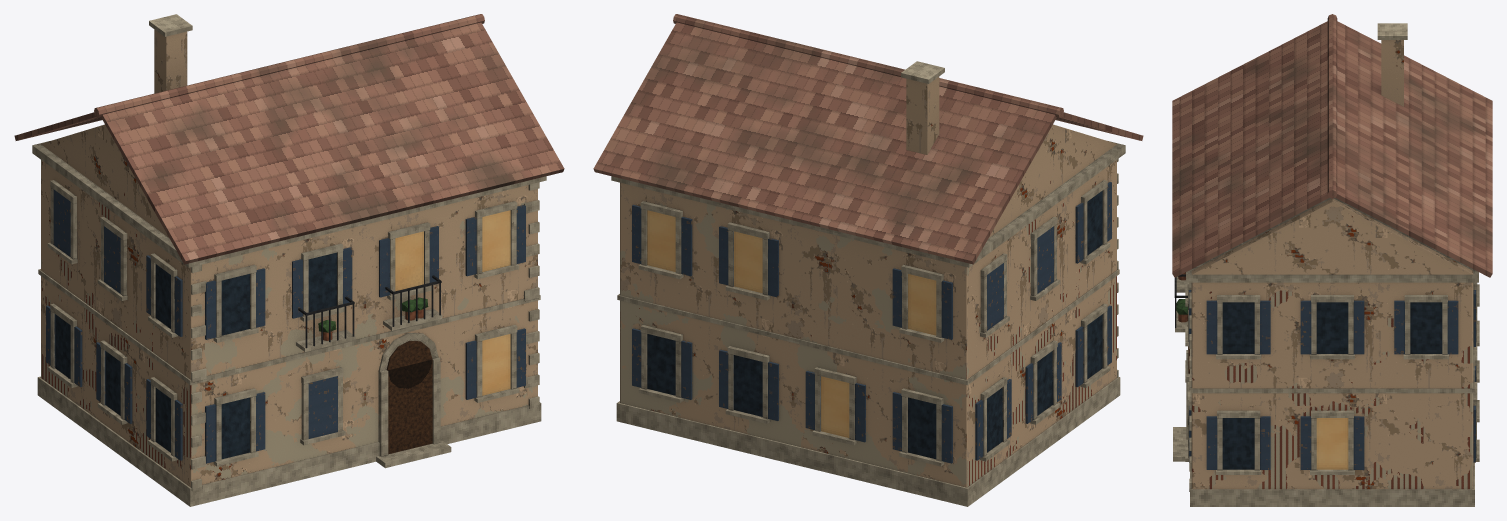
Rendered from siracusa_house_c.glb.
3 views of the same model, side by side, from view 1: azimuth 30°, elevation 25°; view 2: azimuth 150°, elevation 25°; view 3: azimuth 270°, elevation 25° (orthographic). The views are drawn at different scales.
Visible parts, largest first — view 1: siracusa_house_c; view 2: siracusa_house_c; view 3: siracusa_house_c.
Part boxes in pixels (x1,y1,x2,y2): siracusa_house_c: [14, 14, 564, 506]; siracusa_house_c: [593, 14, 1143, 506]; siracusa_house_c: [1172, 14, 1492, 506].
Size of the model in its own units: 11.1 by 10.52 by 8.54.
Materials: 10 (10 with a texture image).
